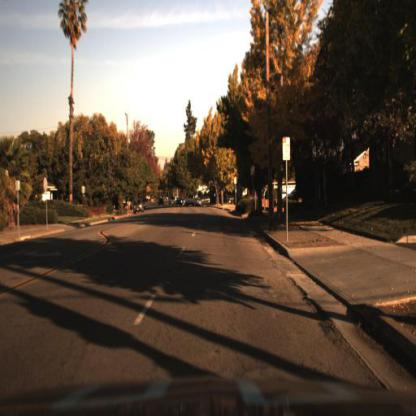car: (132, 197, 145, 218), (134, 197, 146, 215), (186, 193, 198, 209)
